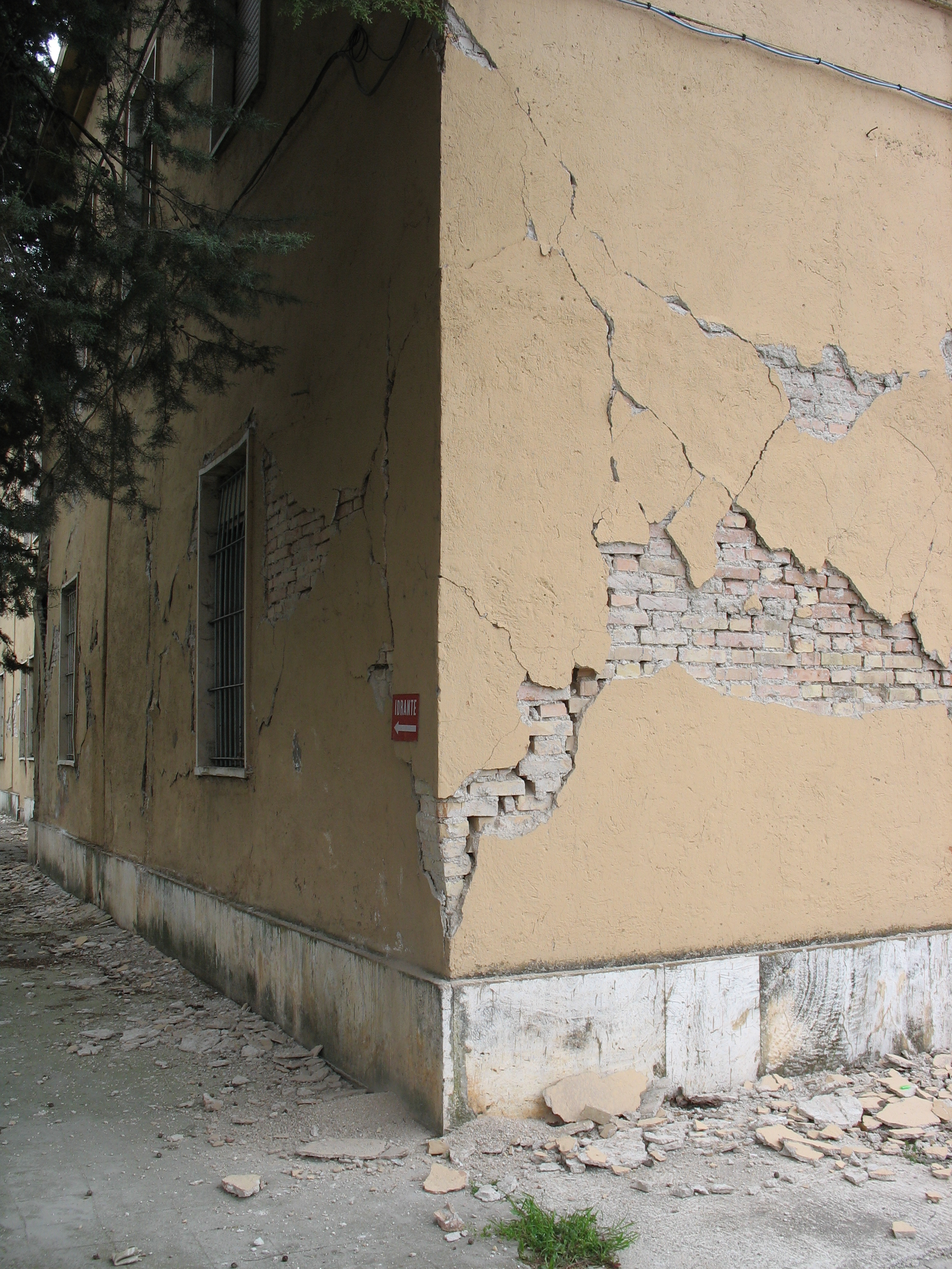Crack: (442, 8, 949, 943), (256, 212, 440, 926), (132, 478, 194, 824), (77, 577, 103, 769), (196, 402, 260, 474), (59, 518, 84, 584), (47, 620, 59, 723), (5, 691, 19, 743), (55, 764, 81, 781)
Debris: (1, 862, 951, 1230)
Other damage/mechanism: (34, 538, 53, 734)
Spalling: (601, 502, 943, 714), (449, 664, 594, 938), (750, 326, 910, 443), (260, 447, 361, 625)
